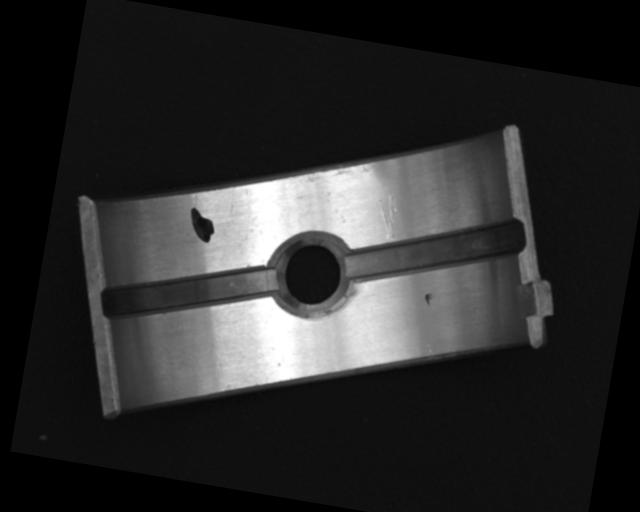blot: (184, 207, 218, 244)
bruise: (422, 292, 434, 306)
gap: (343, 193, 525, 308), (99, 245, 277, 345)
hole: (272, 230, 354, 323)
nick: (372, 190, 401, 240)
